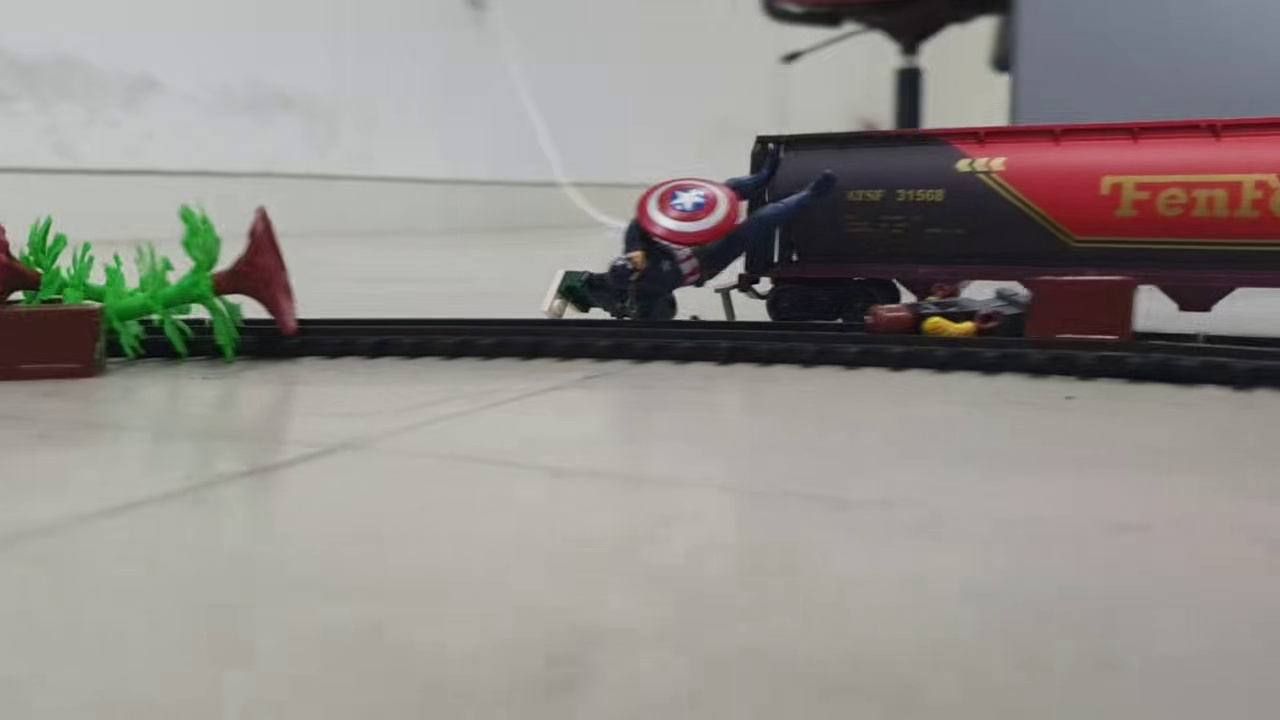box: (3, 299, 106, 382), (1024, 274, 1138, 344)
people: (610, 140, 839, 292), (864, 283, 1028, 334), (538, 263, 679, 320)
tree: (64, 200, 298, 365), (1, 220, 191, 318)
